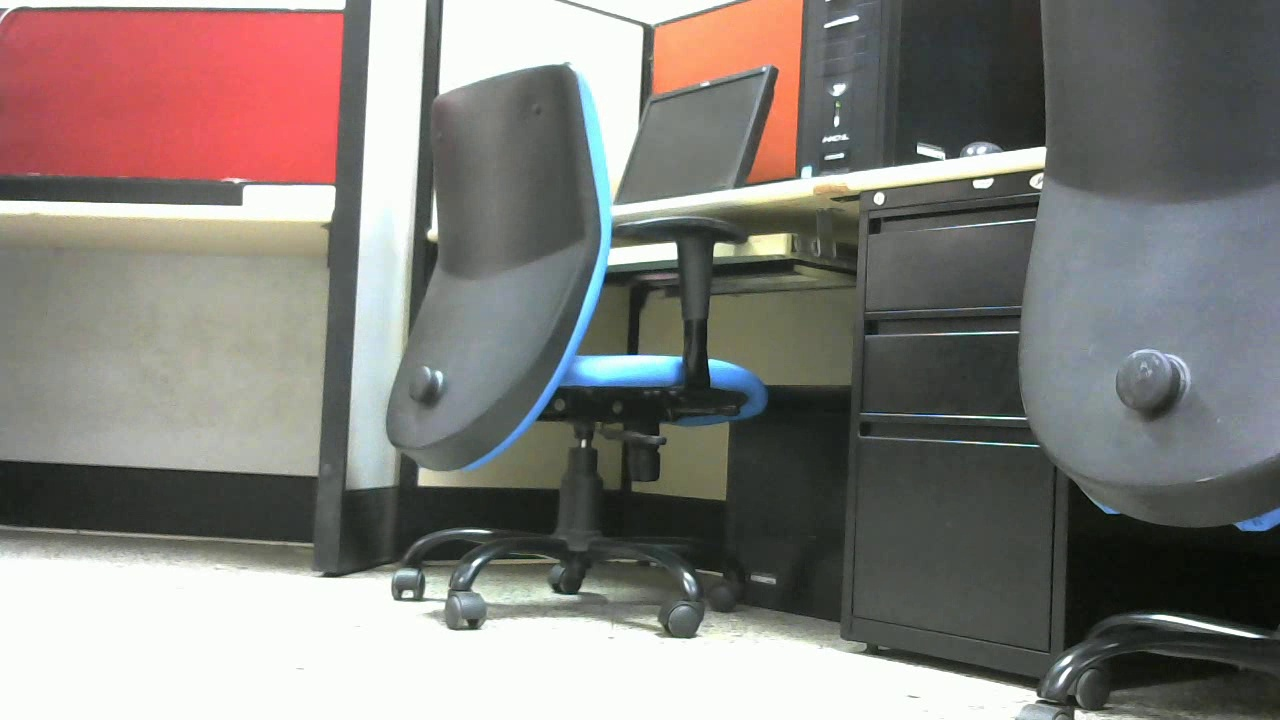chair: (380, 54, 773, 645), (1015, 2, 1280, 720)
